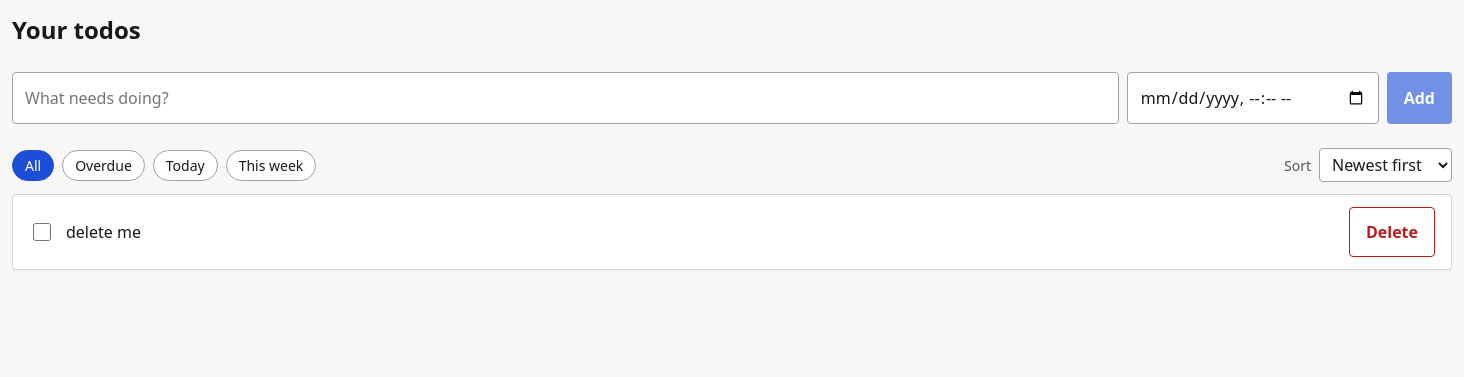
<TodoPage /> › reverts the todo state when delete API fails
This screenshot has width=1464, height=377.
Expected: the text "delete me" is shown, [66, 221, 141, 243]
Click the button "Delete": point(1392, 232) [1349, 207, 1435, 257]
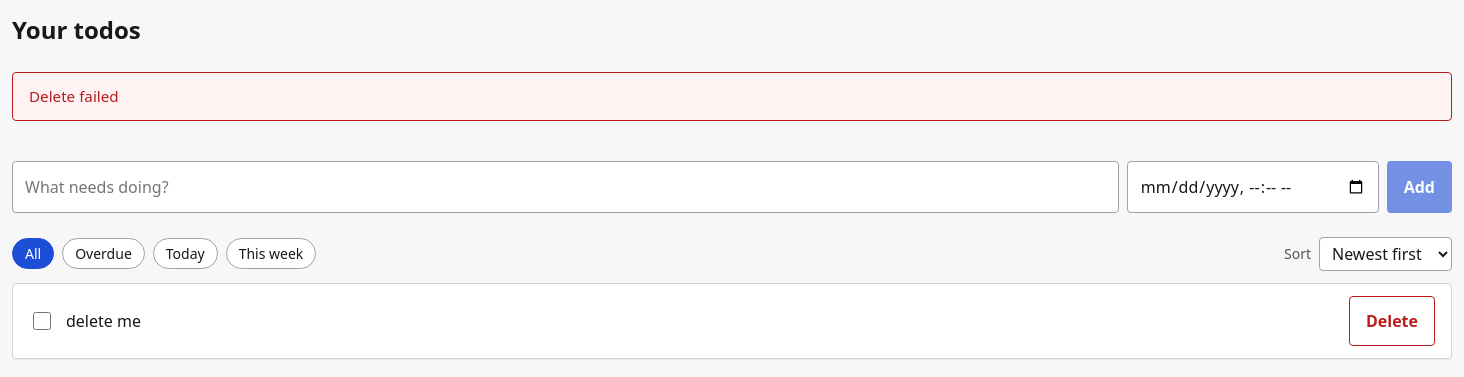
Expected: the text "delete me" is shown, [66, 310, 141, 332]
Result: the message reads "Delete failed" at [29, 86, 119, 106]
